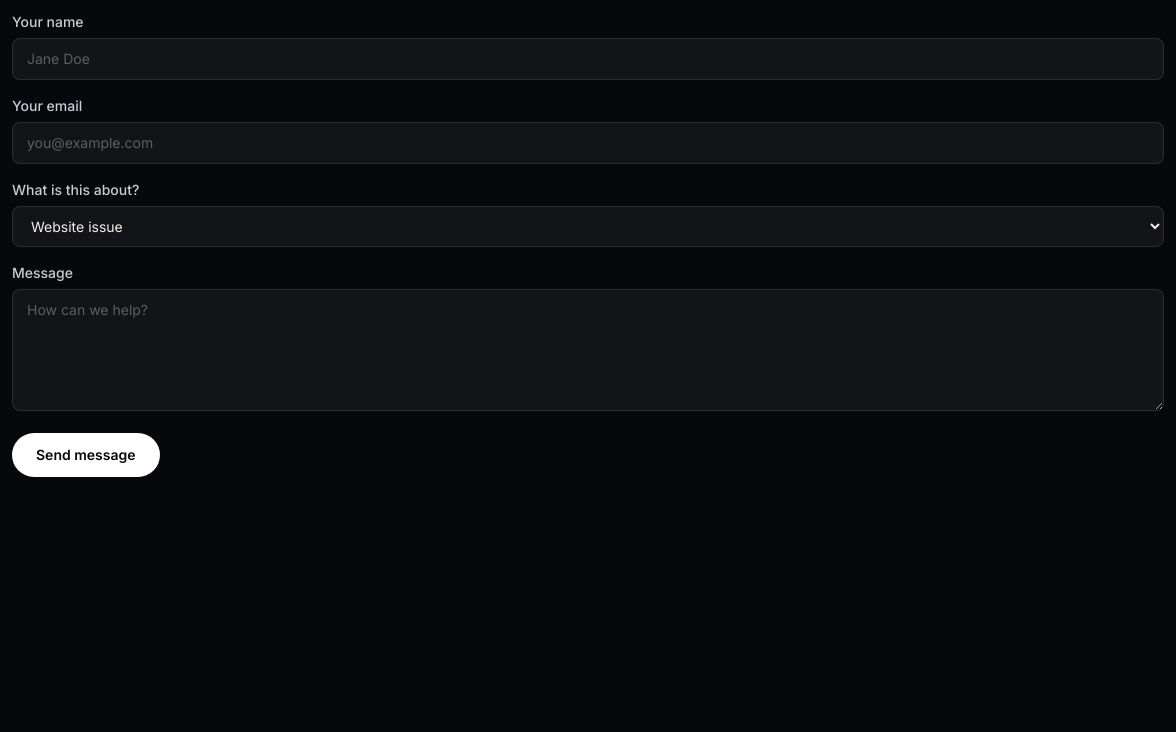
Test case: FeedbackForm (contact mode) › validates the contact email
Type "not-an-email" into the field with test id "contact-email".
click(588, 143); type("not-an-email")  # box left=12, top=122, right=1164, bottom=164
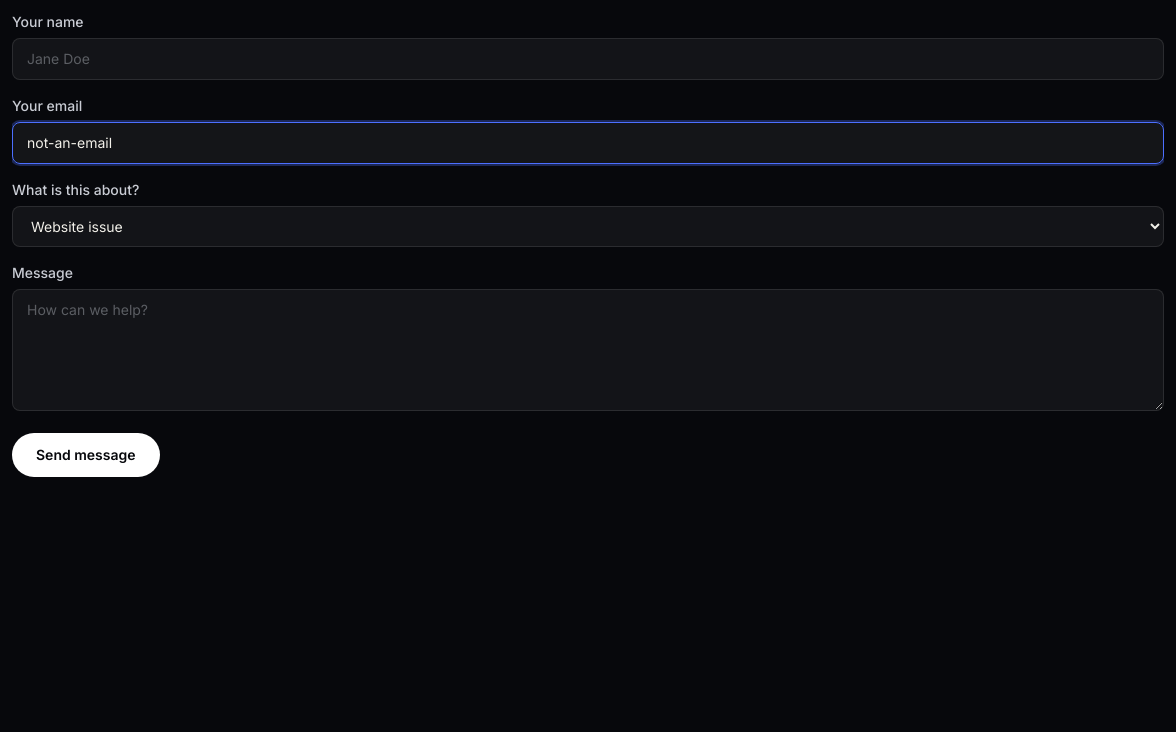
Type "This is a long enough message." into the text box with test id "feedback-message".
click(588, 350); type("This is a long enough message.")  # box left=12, top=289, right=1164, bottom=411
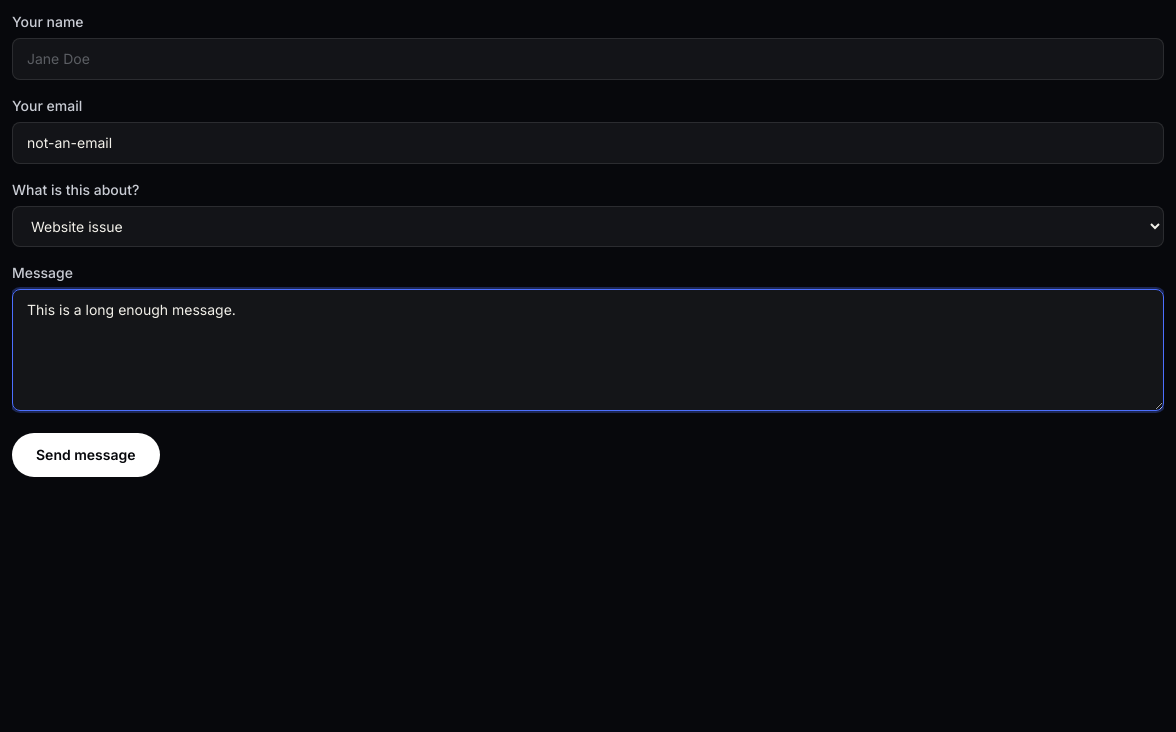
Click the button with test id "feedback-submit".
click(86, 455)  # box left=12, top=433, right=160, bottom=477
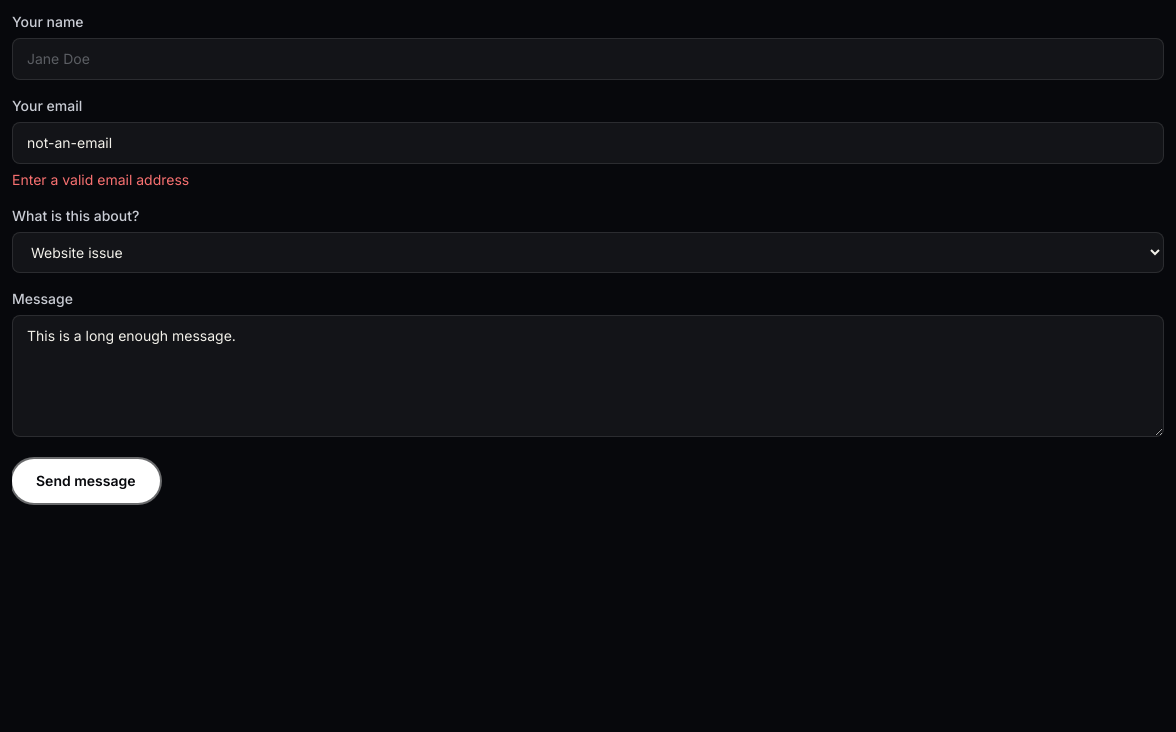
Expected: the text "Enter a valid email address" is shown, left=12, top=171, right=189, bottom=188
